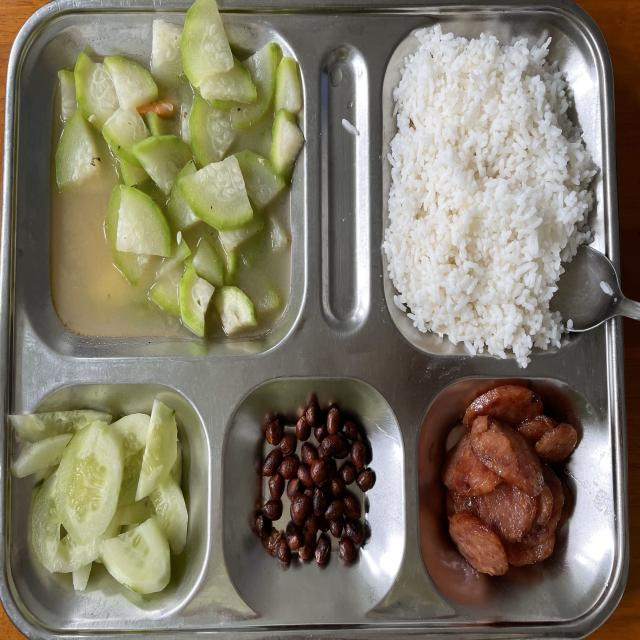com_trang: (404, 55, 577, 324)
